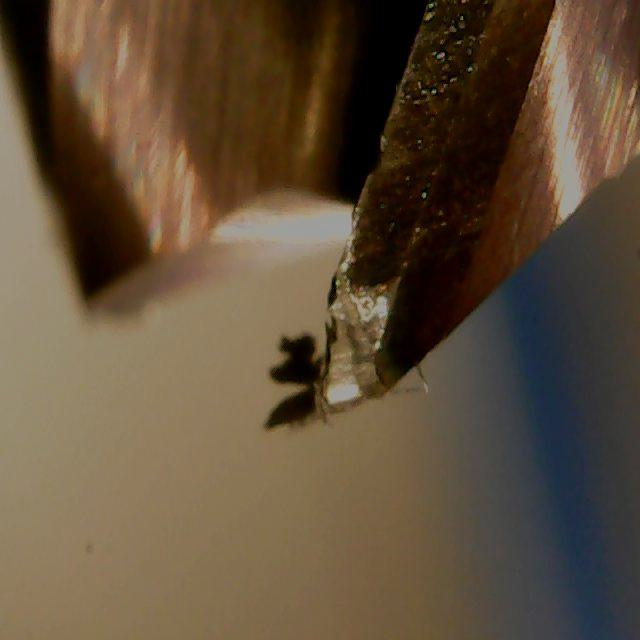Tool-wear-class-2: (276, 66, 471, 444)
